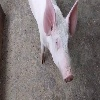heo: (38, 1, 80, 84)
